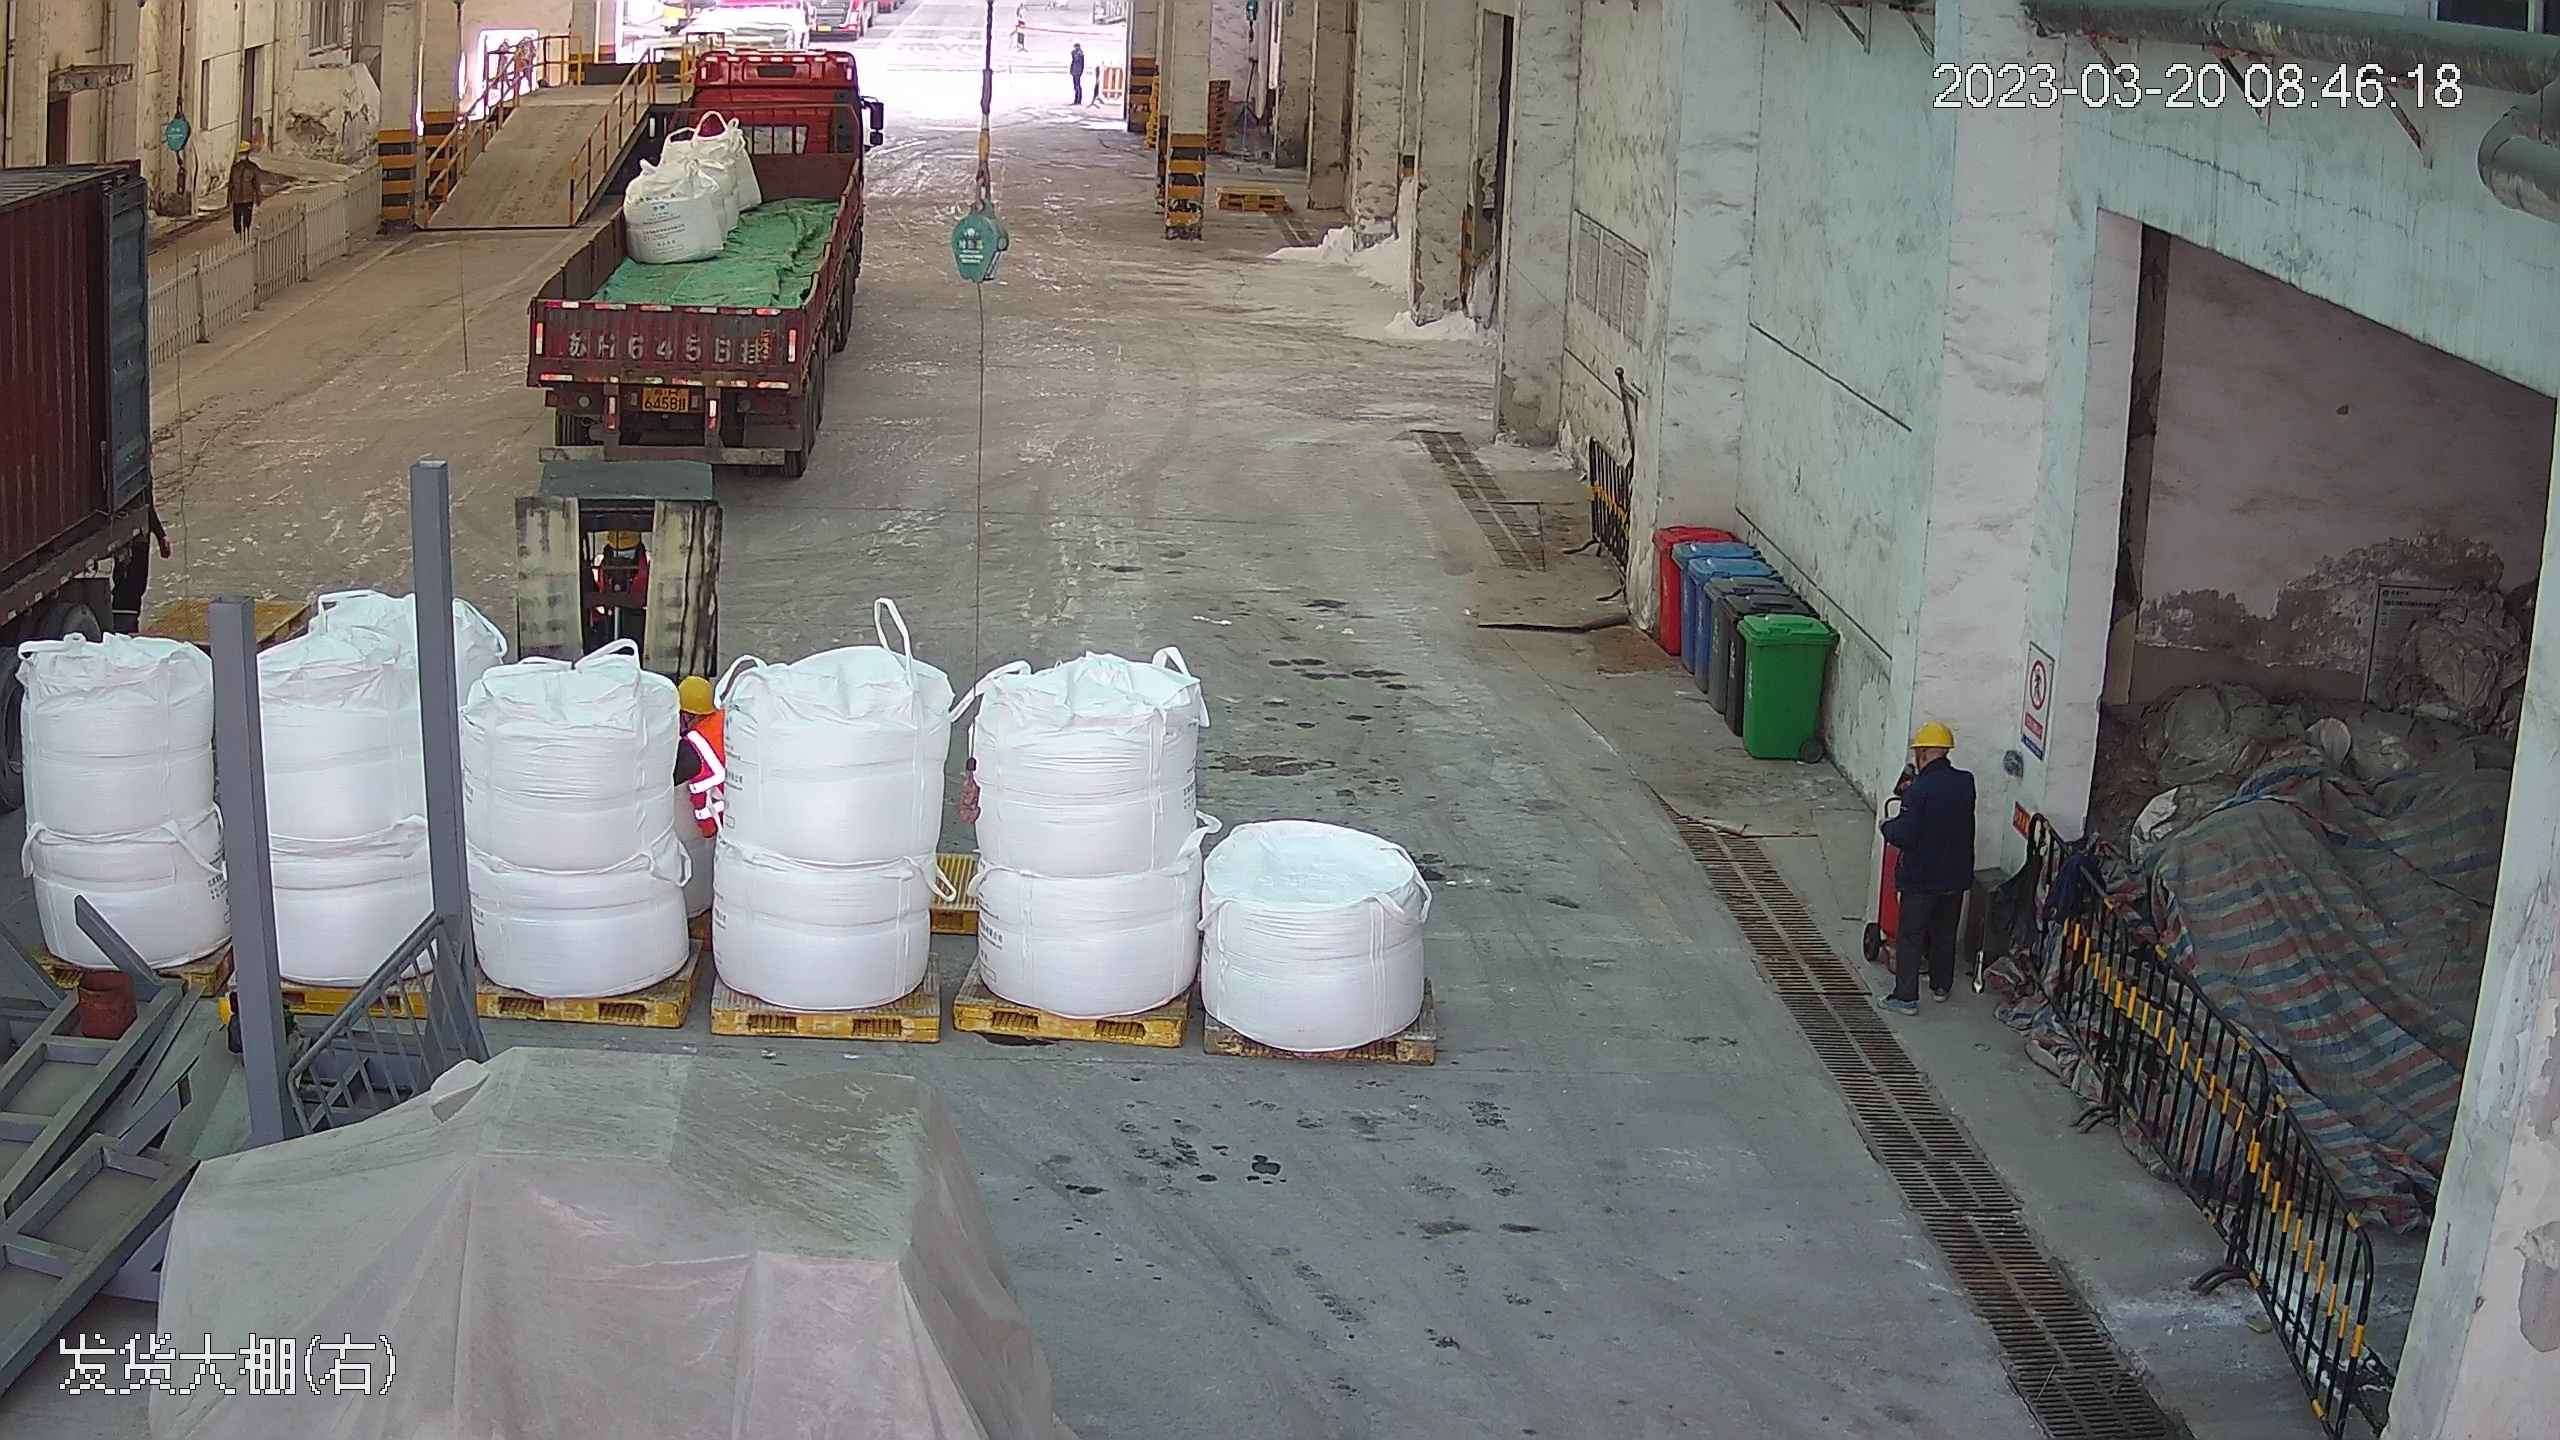head: (1890, 715, 1975, 809), (672, 672, 723, 767), (1906, 716, 1960, 754), (227, 137, 259, 178)
helmet: (674, 670, 715, 713), (1908, 716, 1959, 751), (234, 137, 252, 154)
people: (1873, 712, 1980, 1007), (669, 663, 727, 977), (228, 139, 263, 238), (1065, 35, 1094, 101)
truck: (2, 1, 176, 1412), (512, 24, 875, 476), (2, 31, 176, 663)
